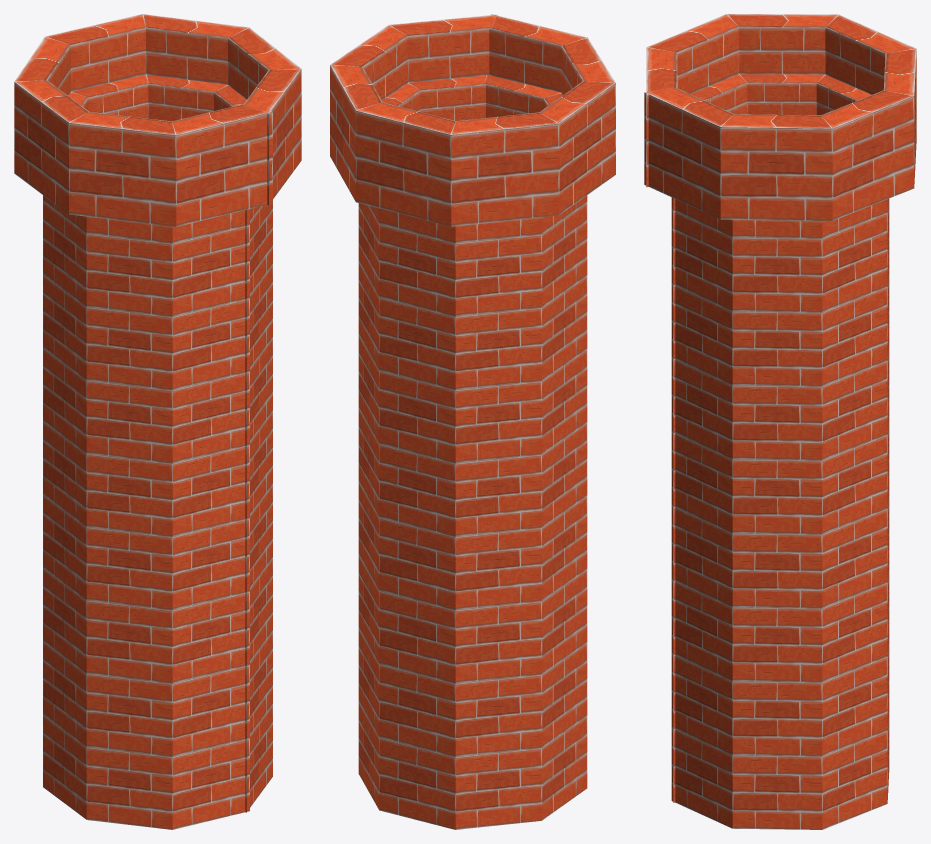
File: Tower.fbx
The picture shows the model from 3 angles, left to right: view 1: azimuth 30°, elevation 25°; view 2: azimuth 150°, elevation 25°; view 3: azimuth 270°, elevation 25°; orthographic projection.
Visible parts, largest first — view 1: Cube, Cube.001; view 2: Cube, Cube.001; view 3: Cube, Cube.001.
Boxes of the visible parts, x1=… form: Cube: x1=43, y1=74, x2=272, y2=829; Cube.001: x1=14, y1=14, x2=301, y2=226; Cube: x1=358, y1=75, x2=587, y2=829; Cube.001: x1=330, y1=14, x2=615, y2=226; Cube: x1=671, y1=74, x2=889, y2=829; Cube.001: x1=644, y1=14, x2=916, y2=220.
Bounding box in the file's own units: 665 × 1927 × 667.
2 materials, 2 textured.
